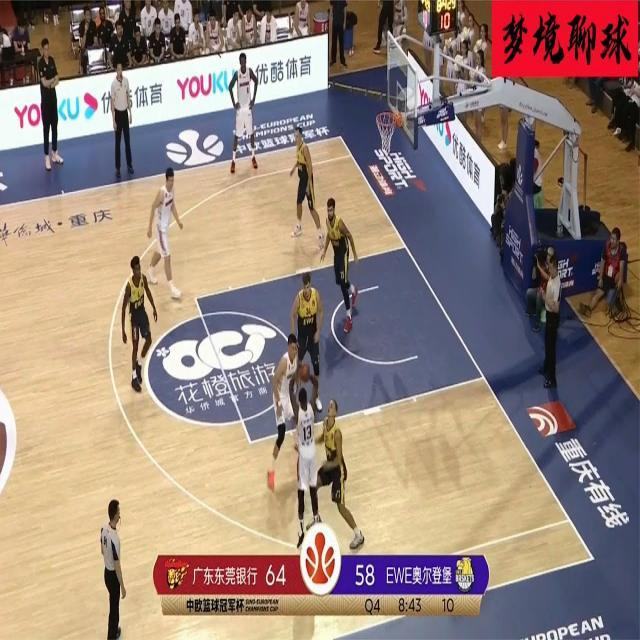rim: (301, 362, 311, 382)
